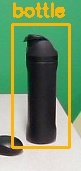bottle: (12, 24, 69, 147)
